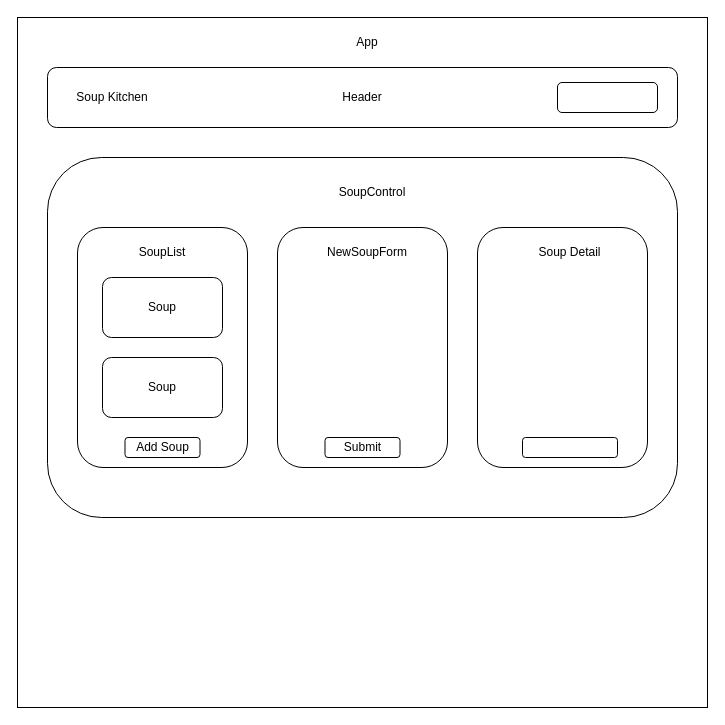
Some shapes in this 725 by 725 pixel diagram are drawn without their labels. Each missing label, with the centre of its shape:
search: the point at 607,97
Update/Delete: the point at 570,447
